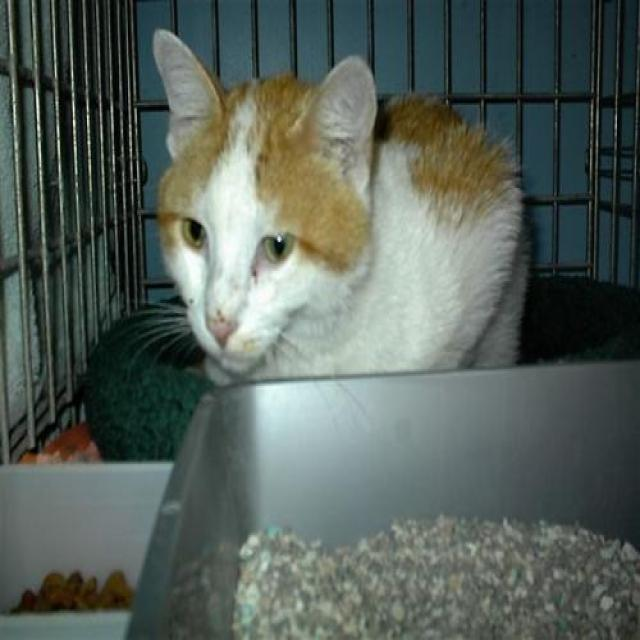cats: (152, 30, 530, 390)
